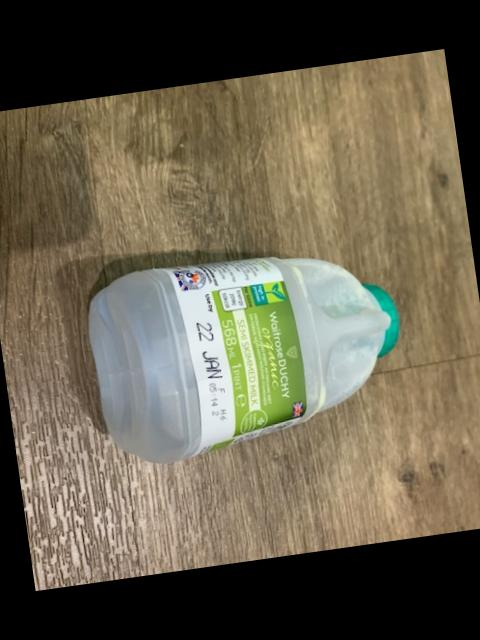plastic: (89, 256, 399, 462)
